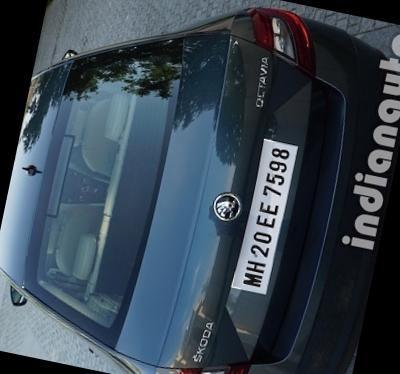plate: (221, 116, 315, 301)
